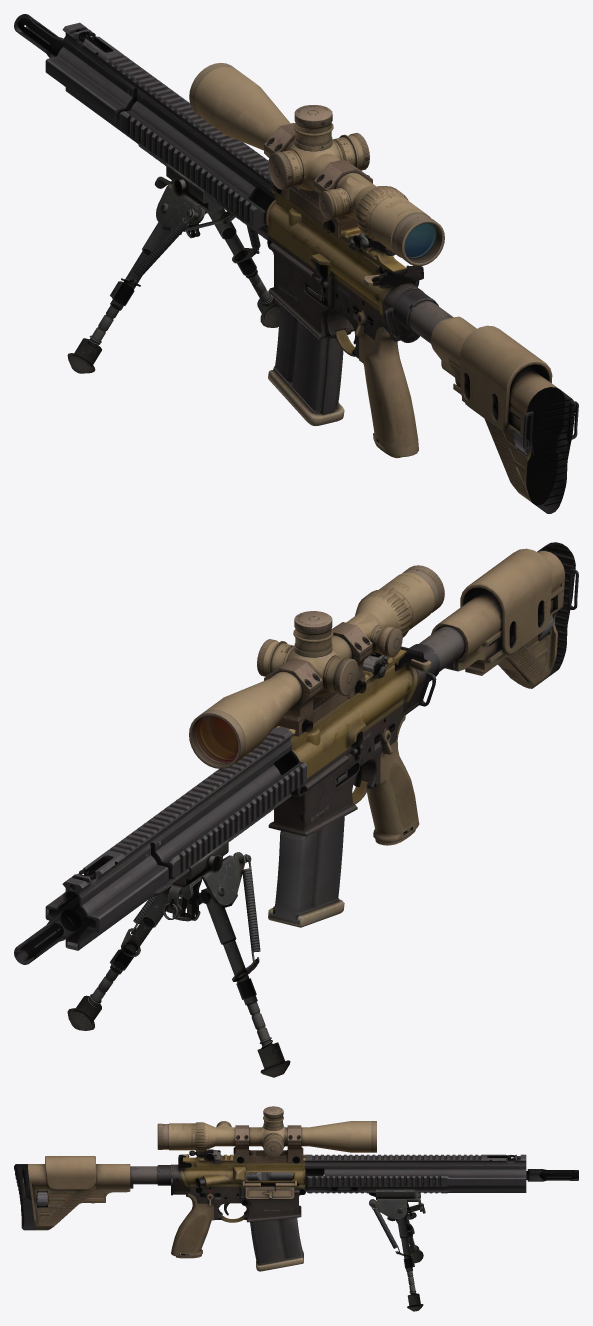
The picture shows the model from 3 angles, top to bottom: view 1: azimuth 30°, elevation 25°; view 2: azimuth 150°, elevation 25°; view 3: azimuth 270°, elevation 25°; orthographic projection. The views are drawn at different scales.
Bounding box in the file's own units: 0.2529 × 0.3714 × 1.08.
Materials: 6 (6 with a texture image).
